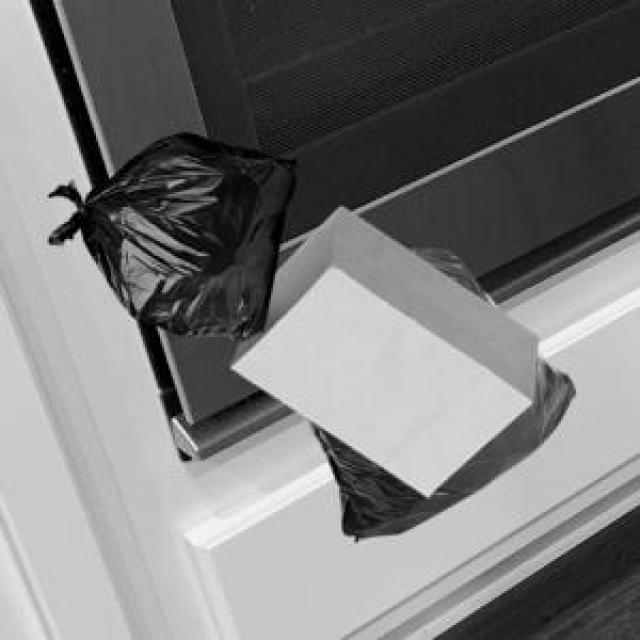miscellaneous trash: (306, 246, 572, 538), (45, 128, 291, 337)
paper: (226, 203, 533, 493)
